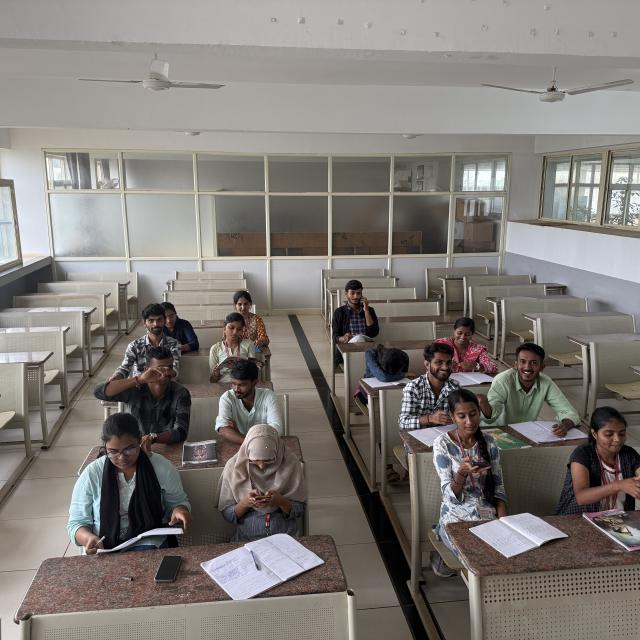Reading: (70, 414, 192, 548), (207, 315, 262, 377)
Sleeping: (361, 336, 418, 383)
Using Phone: (216, 429, 312, 534), (430, 394, 507, 520), (328, 274, 383, 341)
Writing: (487, 340, 581, 437)
